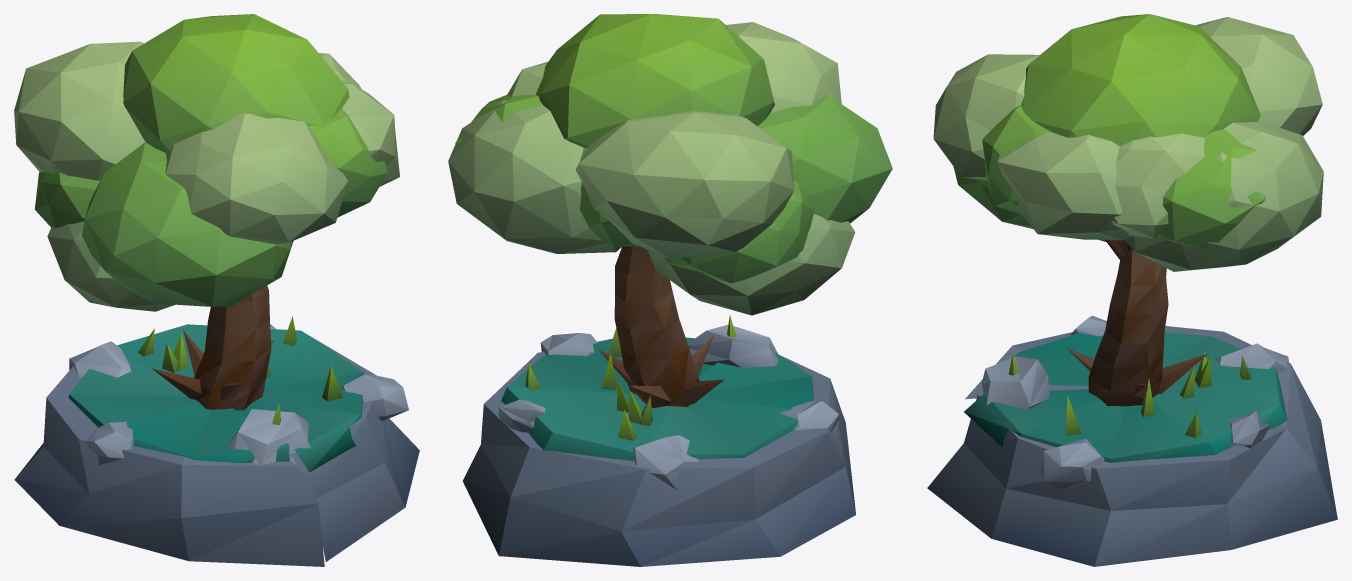
The model's file is pohon_oak_highland_83526.glb.
3 renders of one model, left to right at view 1: azimuth 30°, elevation 25°; view 2: azimuth 150°, elevation 25°; view 3: azimuth 270°, elevation 25°, orthographic. The views are drawn at different scales.
Parts seen in each view (by area): view 1: Dedaunan_Kanopi, Pulau_Batu_Tepi_Sungai, Batang_Dan_Akar; view 2: Dedaunan_Kanopi, Pulau_Batu_Tepi_Sungai, Batang_Dan_Akar; view 3: Dedaunan_Kanopi, Pulau_Batu_Tepi_Sungai, Batang_Dan_Akar.
Part boxes in pixels (left/top/right/bottom): Dedaunan_Kanopi: left=14, top=14, right=399, bottom=311; Pulau_Batu_Tepi_Sungai: left=14, top=316, right=419, bottom=566; Batang_Dan_Akar: left=152, top=285, right=274, bottom=410; Dedaunan_Kanopi: left=448, top=14, right=892, bottom=315; Pulau_Batu_Tepi_Sungai: left=463, top=315, right=855, bottom=566; Batang_Dan_Akar: left=598, top=246, right=724, bottom=408; Dedaunan_Kanopi: left=933, top=14, right=1323, bottom=271; Pulau_Batu_Tepi_Sungai: left=927, top=315, right=1337, bottom=566; Batang_Dan_Akar: left=1066, top=240, right=1208, bottom=406.
Bounding box in the file's own units: 5.48 × 6.83 × 5.56.
